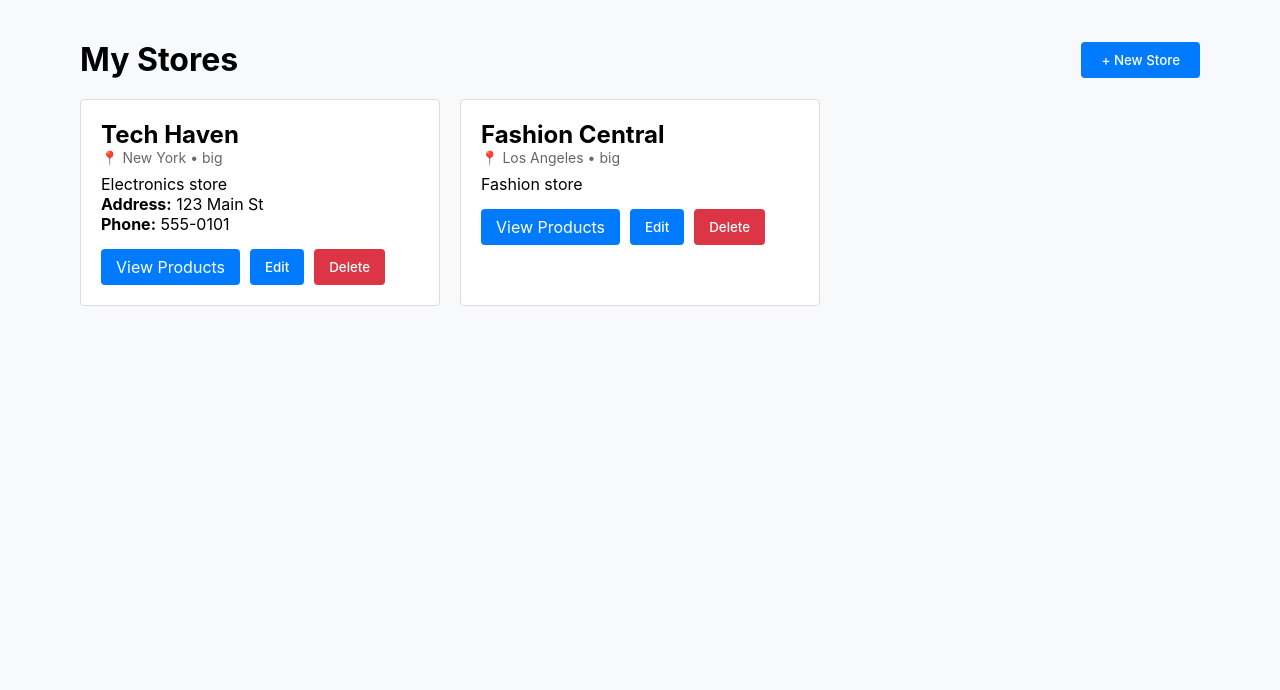
Test: Stores › shows edit form when Edit button clicked
The image size is (1280, 690).
Expected: the heading "Tech Haven" is shown, [101, 120, 239, 149]
Click the button "Edit" below "Phone:": (277, 267) [250, 249, 304, 285]
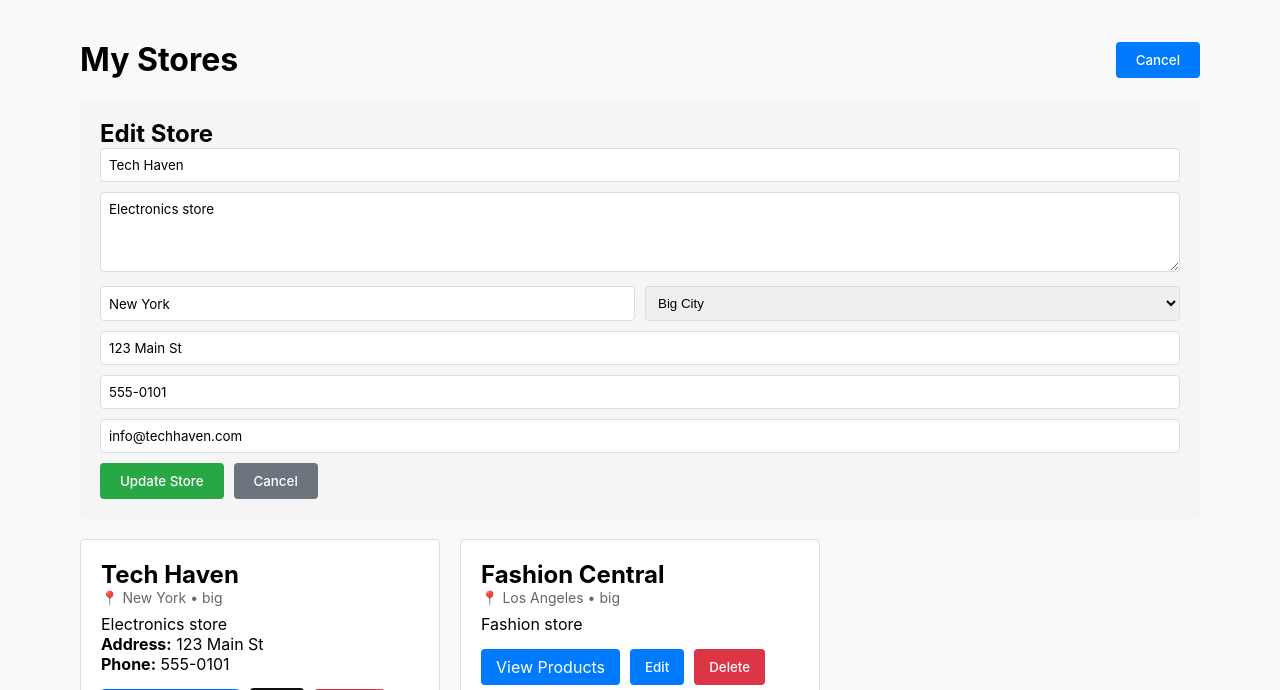
Now the heading "Edit Store" is shown, box [100, 119, 213, 148]
Now the 1st field showing "Tech Haven" is shown, box [100, 148, 1180, 182]
